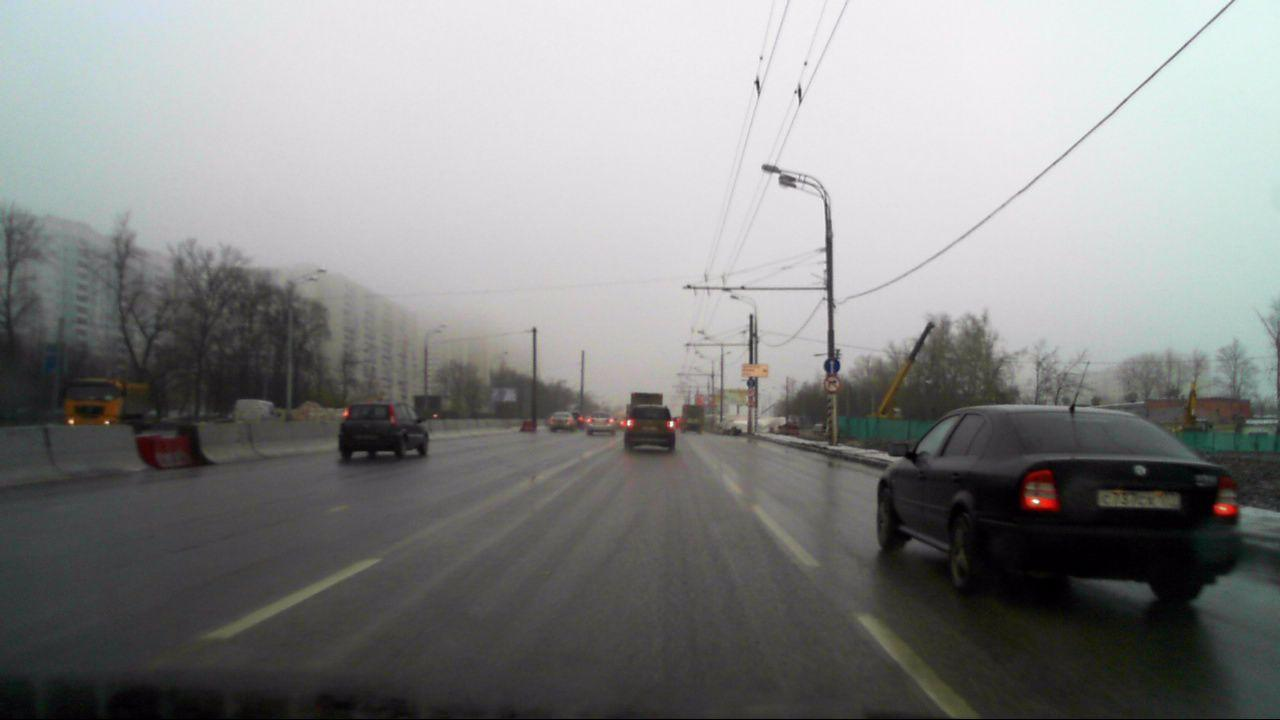road_sign: (824, 357, 841, 374), (824, 375, 840, 392)
